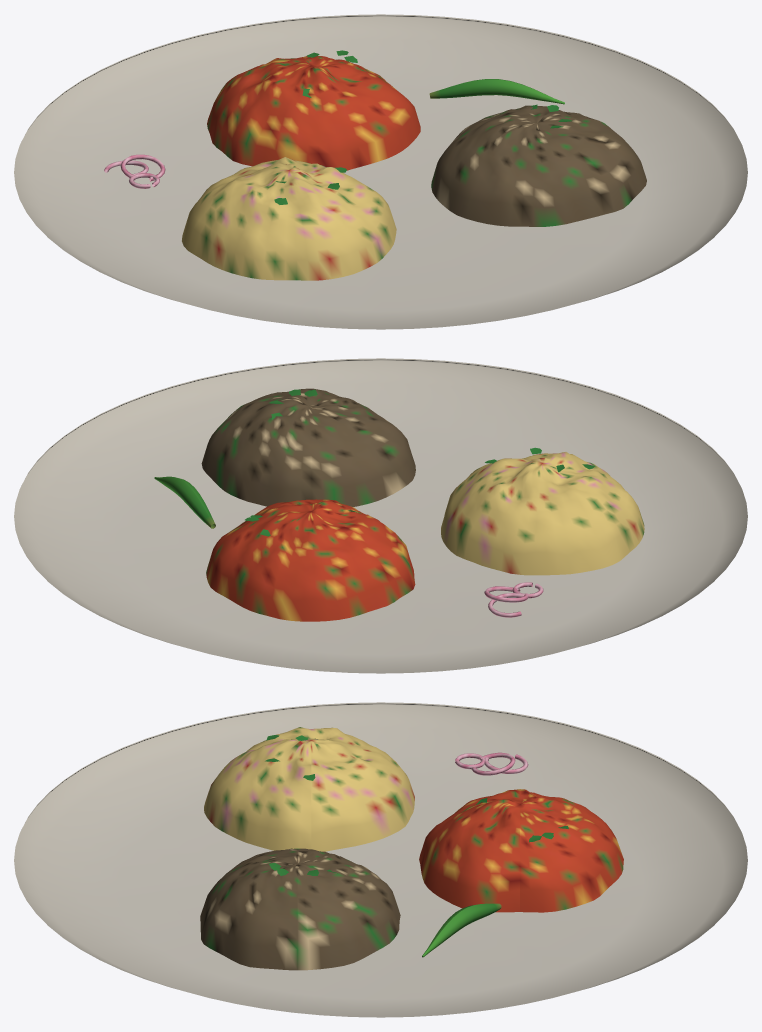
File: bhorta-assortment.glb
3 views of the same model, one above another, from view 1: azimuth 30°, elevation 25°; view 2: azimuth 150°, elevation 25°; view 3: azimuth 270°, elevation 25° (orthographic).
Parts seen in each view (by area): view 1: plate, food, garnish; view 2: plate, food, garnish; view 3: plate, food, garnish.
Part boxes in pixels (left/top/right/bottom): plate: left=14, top=14, right=747, bottom=329; food: left=182, top=56, right=646, bottom=280; garnish: left=104, top=50, right=572, bottom=204; plate: left=14, top=358, right=747, bottom=673; food: left=201, top=388, right=644, bottom=621; garnish: left=154, top=389, right=594, bottom=617; plate: left=14, top=702, right=747, bottom=1017; food: left=200, top=727, right=623, bottom=970; garnish: left=265, top=735, right=568, bottom=957.
Size of the model in its own units: 2.11 by 0.2764 by 2.11.
